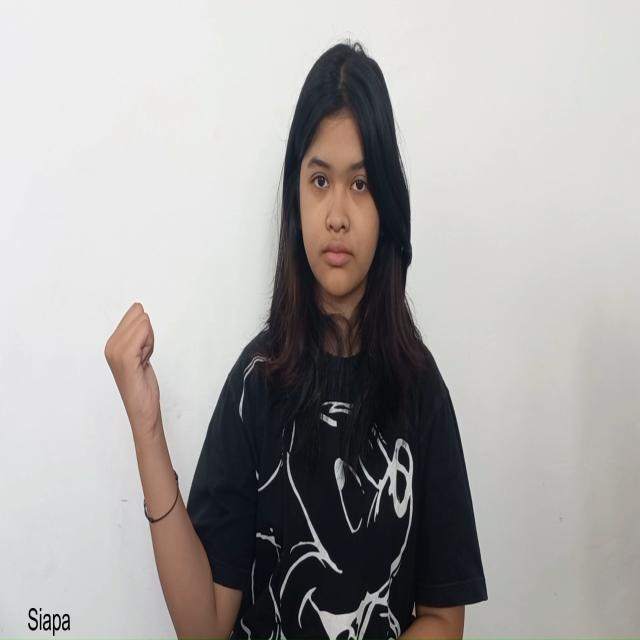Siapa -BISINDO-: (101, 298, 168, 470)
